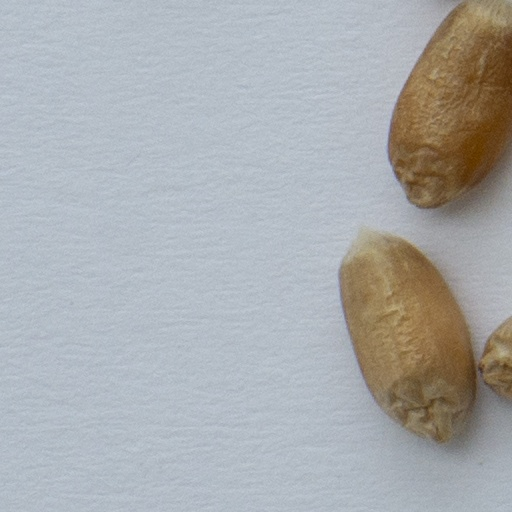Wheat-grain-poly: (335, 227, 476, 447), (387, 0, 511, 212), (477, 316, 511, 404)
